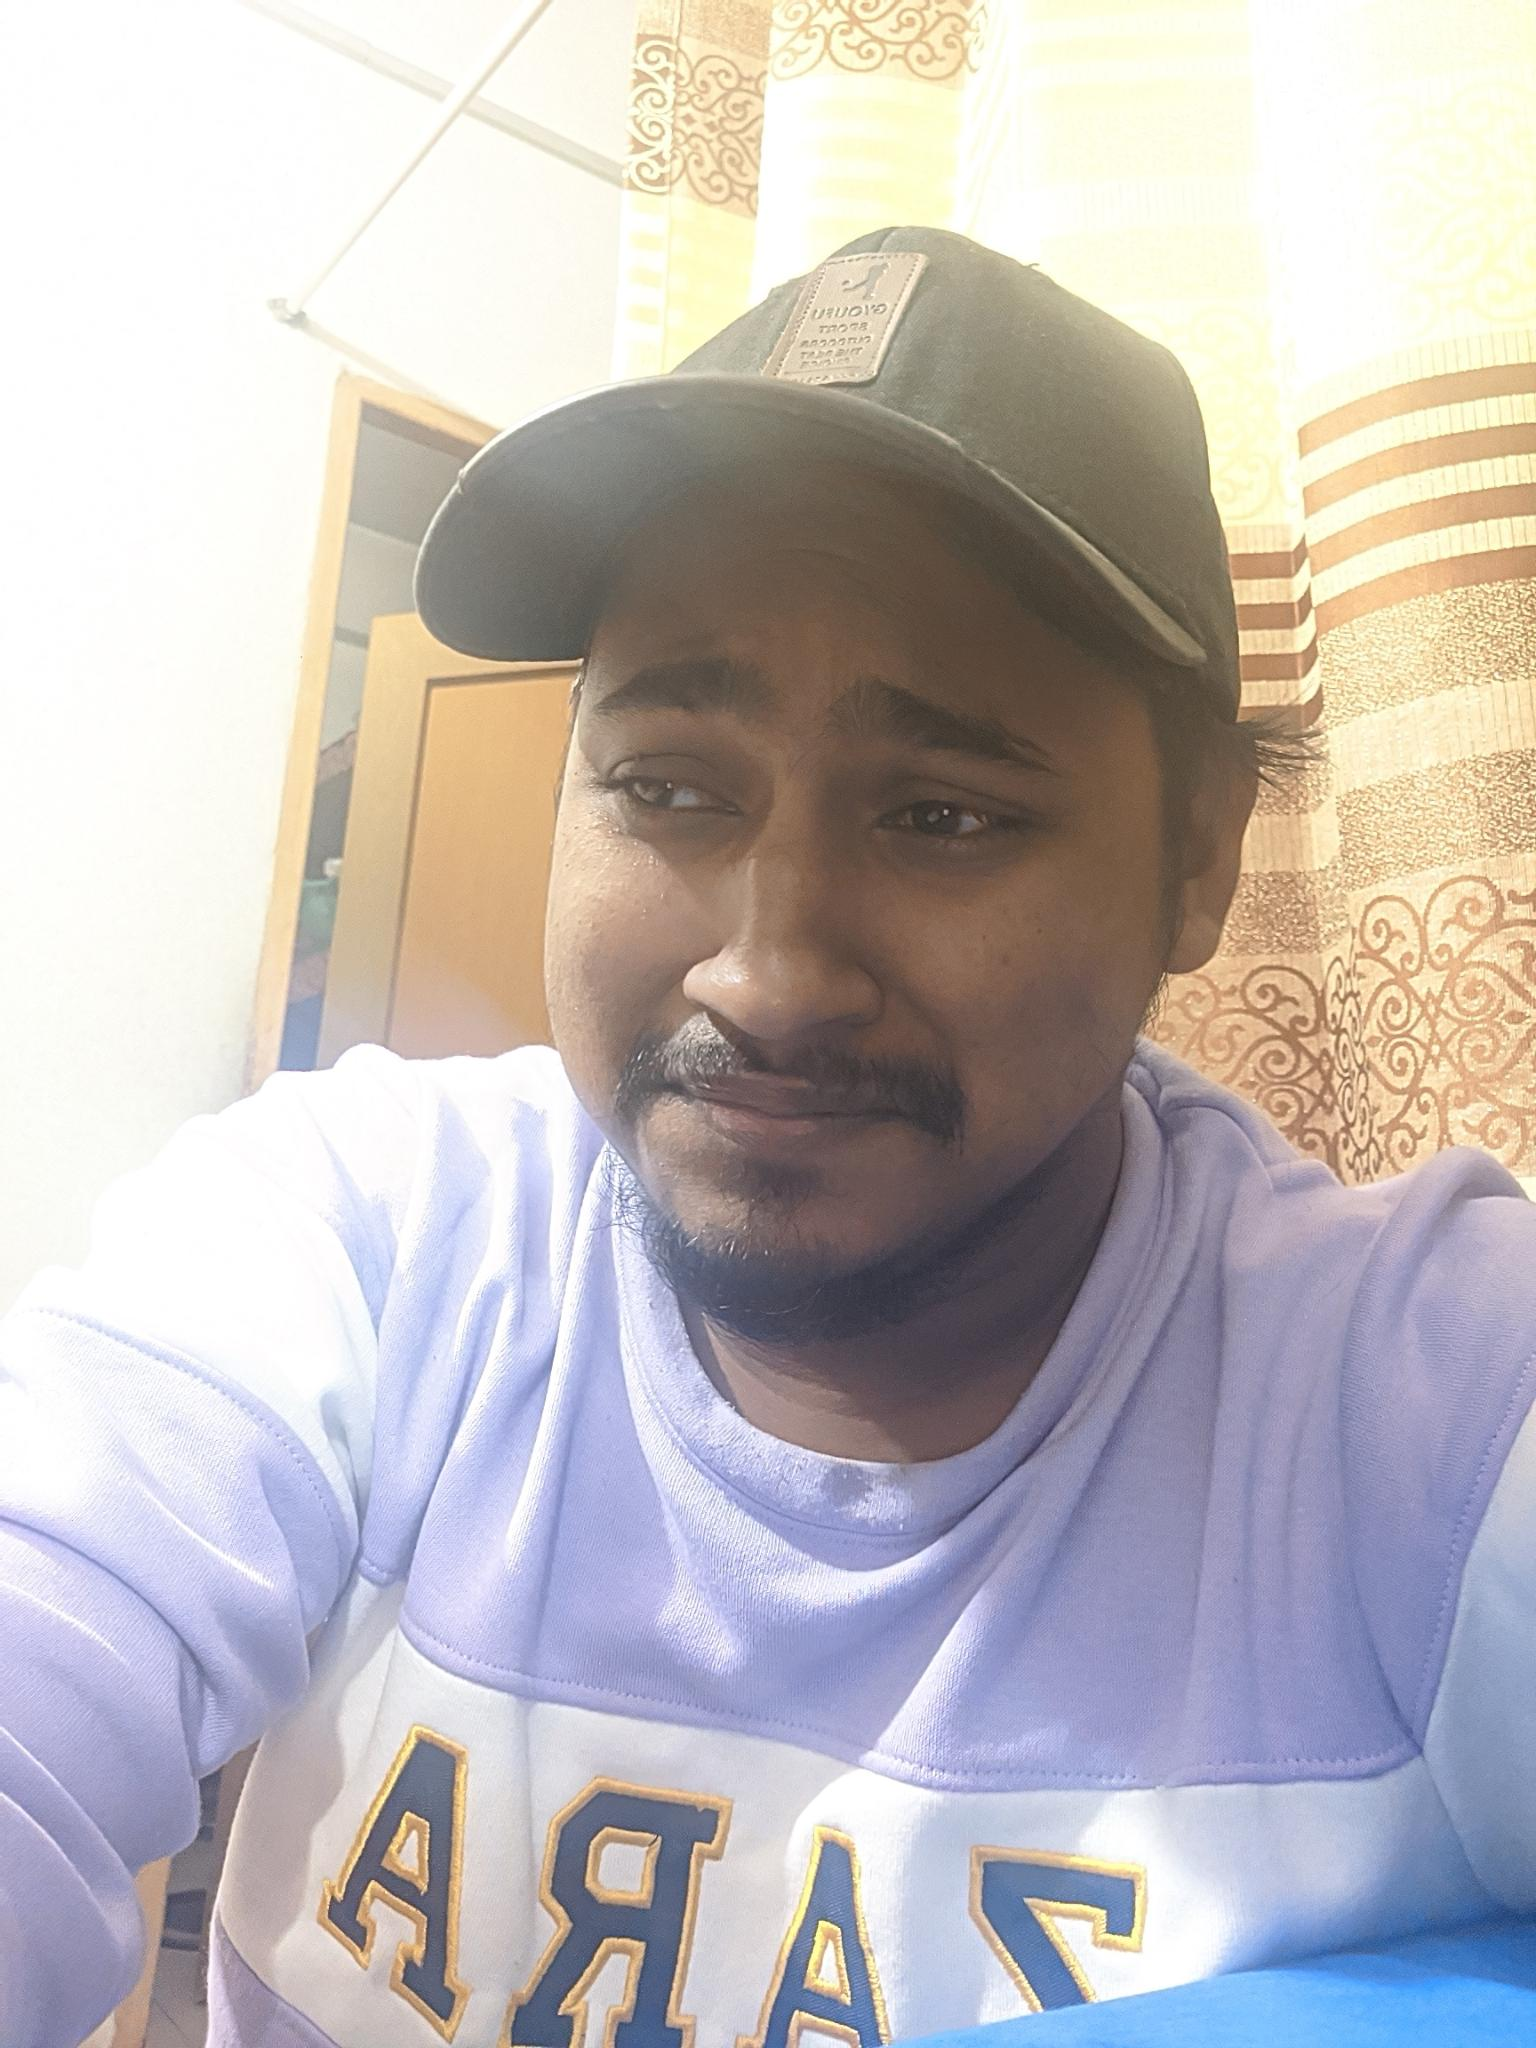Sad: (539, 601, 1134, 1319)
